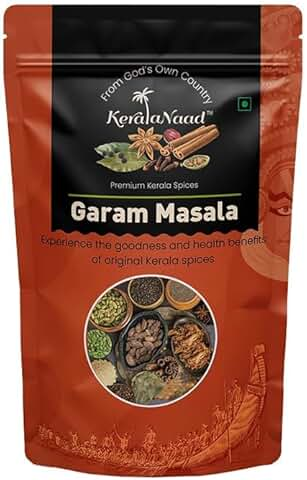Garamasala: (1, 6, 302, 480)
